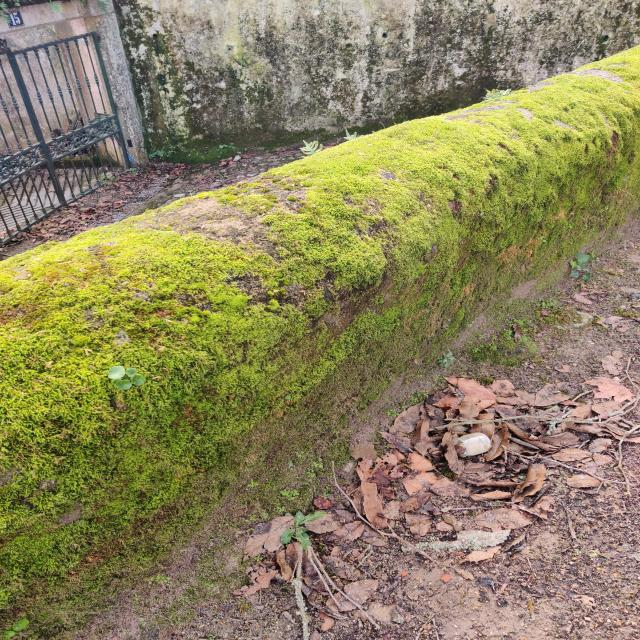litter: (449, 431, 501, 458)
